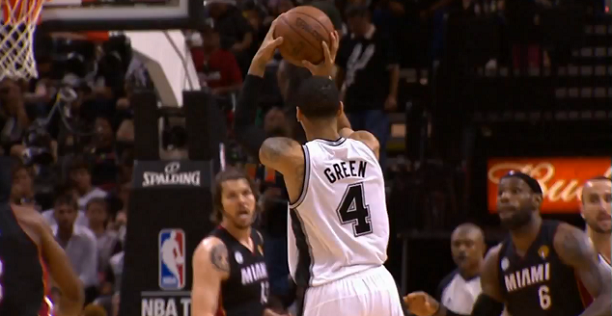ball: (273, 6, 337, 72)
basket: (1, 1, 49, 80)
player: (230, 36, 411, 316), (470, 173, 612, 315), (195, 165, 275, 316)
